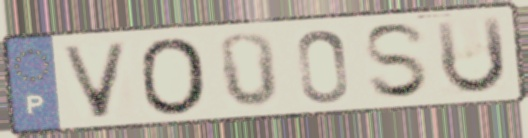0: (216, 30, 282, 112), (293, 26, 352, 106)
O: (136, 34, 211, 118)
S: (360, 20, 433, 102)
U: (431, 12, 510, 98)
V: (57, 39, 133, 122)
